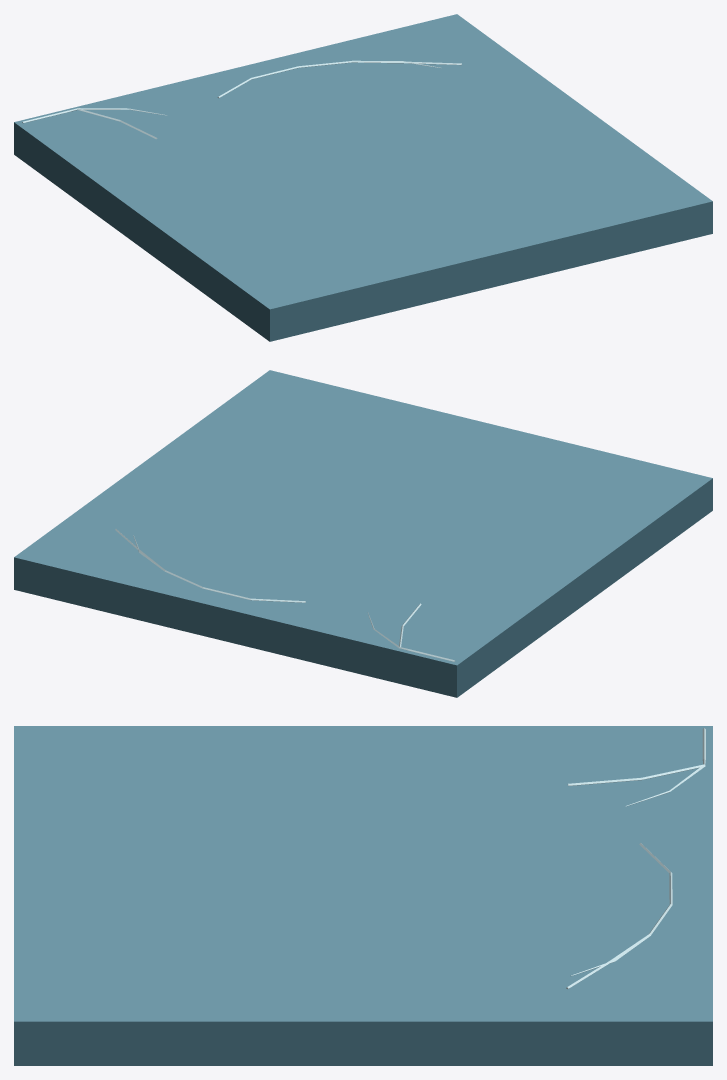
Rendered from ICE_06_CrackedIceTile.glb.
3 views of the same model, one above another, from view 1: azimuth 30°, elevation 25°; view 2: azimuth 150°, elevation 25°; view 3: azimuth 270°, elevation 25° (orthographic). The views are drawn at different scales.
Parts seen in each view (by area): view 1: ICE_06_CrackedIceTile; view 2: ICE_06_CrackedIceTile; view 3: ICE_06_CrackedIceTile.
Boxes of the visible parts, left/top/right/bottom form: ICE_06_CrackedIceTile: left=14, top=14, right=712, bottom=341; ICE_06_CrackedIceTile: left=14, top=370, right=712, bottom=697; ICE_06_CrackedIceTile: left=14, top=726, right=712, bottom=1065.
Size of the model in its own units: 4 by 0.294 by 4.
